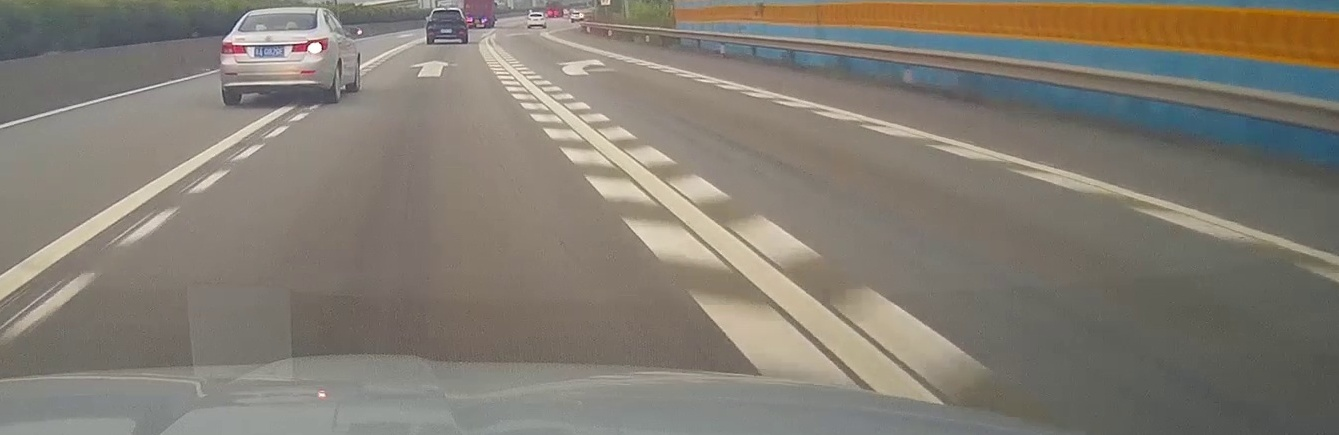L_light: (220, 41, 245, 54), (427, 19, 436, 24)
R_light: (292, 38, 328, 53), (457, 19, 465, 24)
T_light: (271, 13, 287, 17), (443, 10, 449, 12)
day-no: (426, 8, 466, 43)
day-right: (220, 7, 329, 105)
